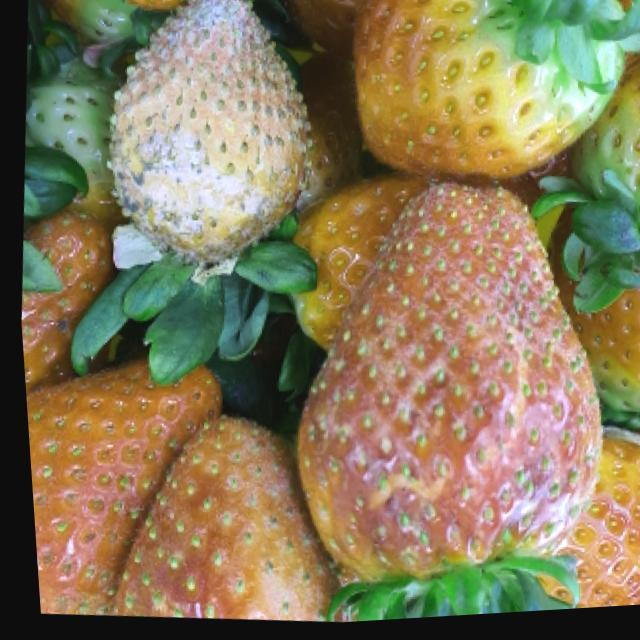Powdery Mildew Fruit: (288, 186, 597, 594), (106, 0, 313, 269), (105, 419, 339, 626)
